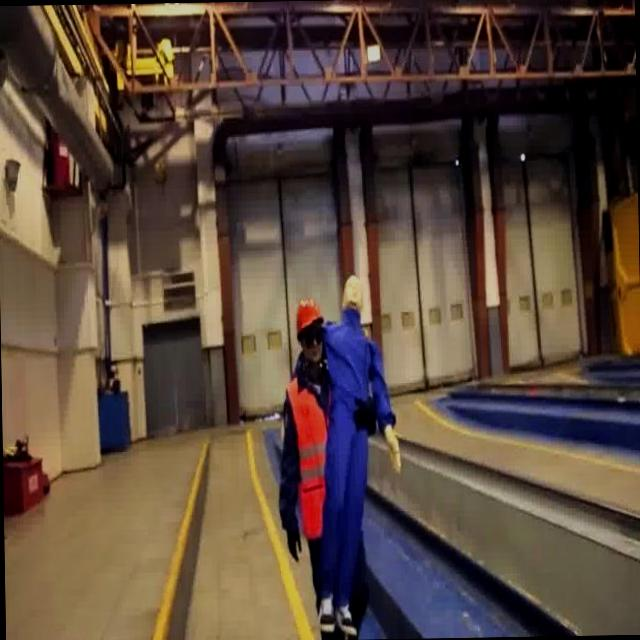vest: (284, 370, 329, 540)
